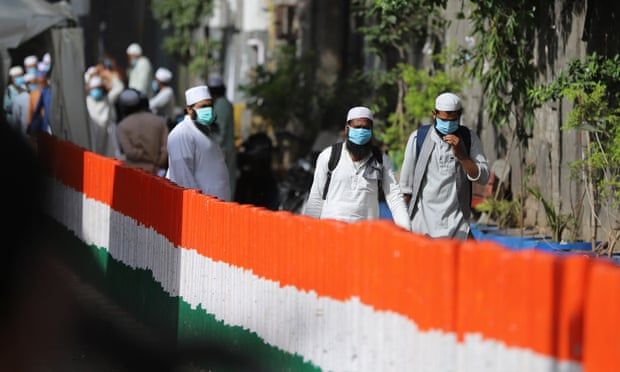mask: (427, 91, 466, 144), (344, 106, 377, 148), (185, 92, 217, 130), (148, 64, 169, 98), (120, 43, 142, 69), (86, 75, 103, 99), (7, 64, 23, 87), (23, 56, 38, 78)
